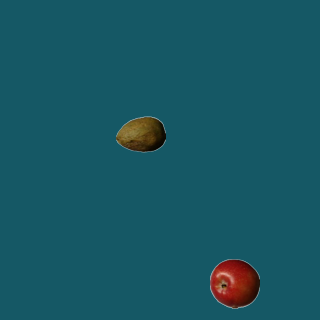Apple Braeburn: (209, 258, 259, 308)
Papaya: (115, 109, 165, 159)
